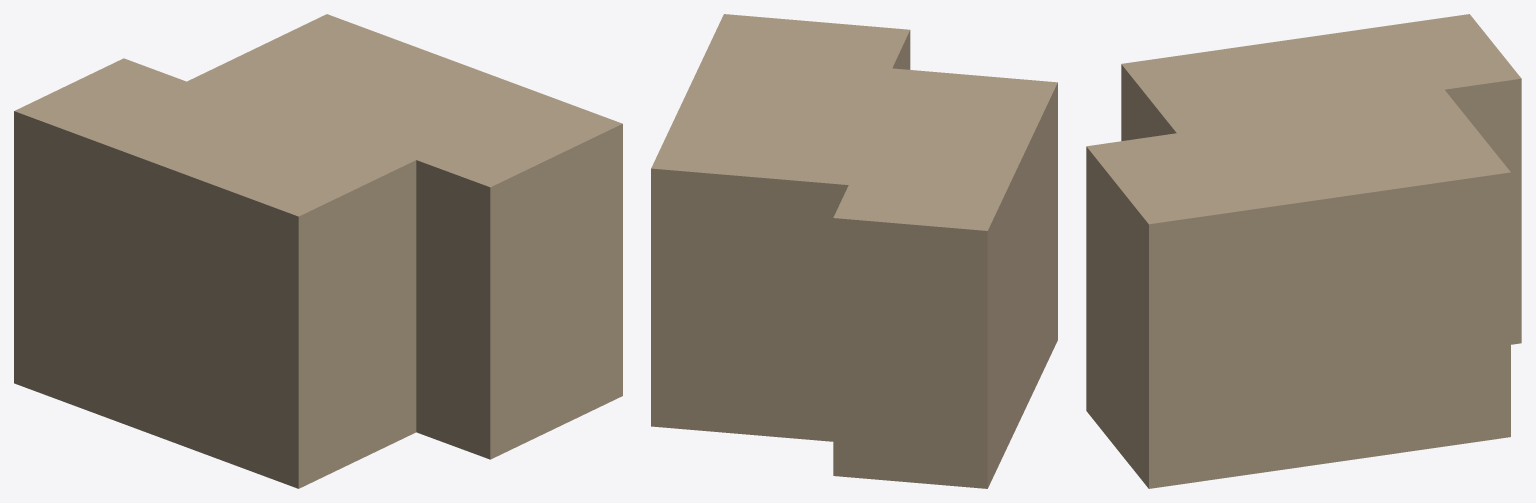
Rendered from bld_106456514.dae.
The picture shows the model from 3 angles, left to right: view 1: azimuth 30°, elevation 25°; view 2: azimuth 150°, elevation 25°; view 3: azimuth 270°, elevation 25°; orthographic projection. The views are drawn at different scales.
Visible parts, largest first — view 1: bld_106456514; view 2: bld_106456514; view 3: bld_106456514.
Boxes of the visible parts, x1,y1,x2,y2 form: bld_106456514: (14, 14, 622, 488); bld_106456514: (651, 14, 1057, 488); bld_106456514: (1086, 14, 1521, 488).
Bounding box in the file's own units: 13.64 × 11.92 × 8.
